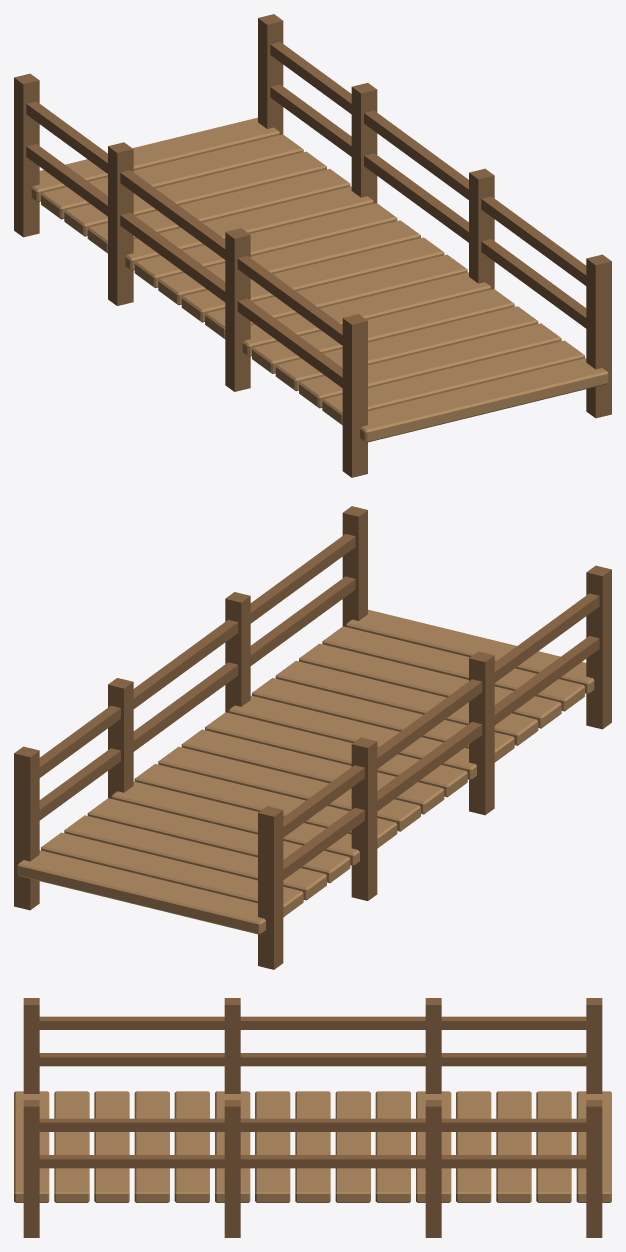
Rendered from Bridge.glb.
3 views of the same model, one above another, from view 1: azimuth 30°, elevation 25°; view 2: azimuth 150°, elevation 25°; view 3: azimuth 270°, elevation 25° (orthographic). The views are drawn at different scales.
Visible parts, largest first — view 1: DeckPlank, Handrail, Handrail.001, Handrail.002, Handrail.003, DeckPlank.001, DeckPlank.002, DeckPlank.003, DeckPlank.007, DeckPlank.012, DeckPlank.009, DeckPlank.004 (+15 smaller); view 2: DeckPlank.014, Handrail.002, Handrail.003, Handrail.001, Handrail, DeckPlank.013, DeckPlank.012, DeckPlank.011, DeckPlank.008, DeckPlank.003, DeckPlank.006, DeckPlank.001 (+15 smaller); view 3: Handrail, Handrail.001, Handrail.002, Handrail.003, DeckPlank.007, DeckPlank.001, DeckPlank.002, DeckPlank.012, DeckPlank.013, DeckPlank.003, DeckPlank.006, DeckPlank.008 (+15 smaller).
Boxes of the visible parts, x1,y1,x2,y2 form: DeckPlank: [360, 358, 608, 442]; Handrail: [26, 144, 342, 387]; Handrail.001: [26, 101, 342, 345]; Handrail.002: [270, 84, 586, 328]; Handrail.003: [270, 42, 586, 285]; DeckPlank.001: [322, 340, 584, 425]; DeckPlank.002: [299, 323, 561, 408]; DeckPlank.003: [275, 306, 538, 391]; DeckPlank.007: [181, 237, 444, 322]; DeckPlank.012: [64, 151, 326, 236]; DeckPlank.009: [134, 203, 397, 288]; DeckPlank.004: [252, 289, 514, 373]; DeckPlank.014: [17, 850, 265, 934]; Handrail.002: [39, 576, 355, 820]; Handrail.003: [39, 534, 355, 777]; Handrail.001: [283, 593, 599, 837]; Handrail: [283, 636, 599, 879]; DeckPlank.013: [41, 832, 303, 917]; DeckPlank.012: [64, 815, 326, 900]; DeckPlank.011: [87, 798, 350, 883]; DeckPlank.008: [158, 746, 420, 831]; DeckPlank.003: [275, 661, 538, 745]; DeckPlank.006: [205, 712, 467, 797]; DeckPlank.001: [322, 626, 584, 711]; Handrail: [39, 1053, 586, 1066]; Handrail.001: [39, 1016, 586, 1029]; Handrail.002: [39, 1155, 586, 1168]; Handrail.003: [39, 1118, 586, 1131]; DeckPlank.007: [295, 1091, 330, 1202]; DeckPlank.001: [54, 1091, 89, 1202]; DeckPlank.002: [94, 1091, 129, 1202]; DeckPlank.012: [496, 1091, 531, 1202]; DeckPlank.013: [536, 1091, 571, 1202]; DeckPlank.003: [134, 1091, 169, 1202]; DeckPlank.006: [255, 1091, 290, 1202]; DeckPlank.008: [335, 1091, 370, 1202].
Size of the model in its own units: 6.4 by 3.6 by 14.88.
